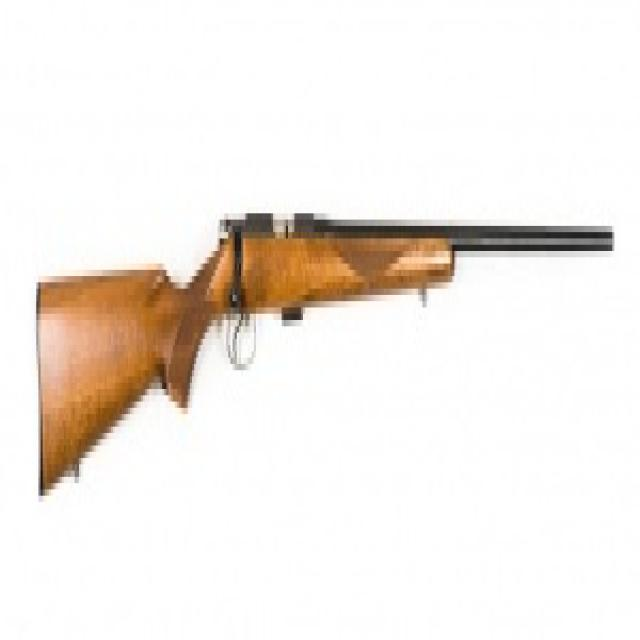rifle: (33, 215, 618, 504)
